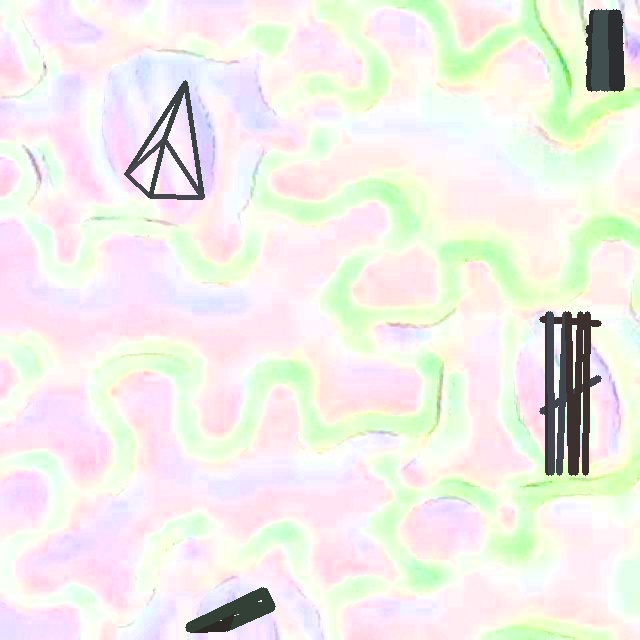open: (540, 311, 600, 474), (124, 80, 203, 198), (185, 587, 274, 631), (585, 9, 622, 91)
